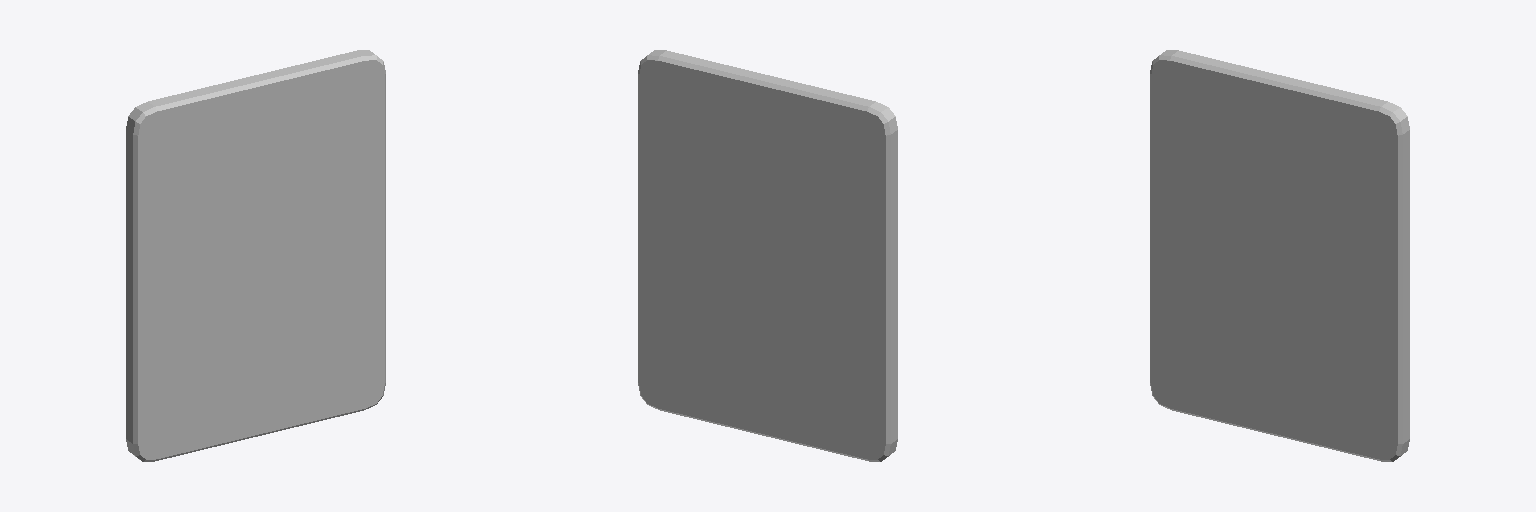
The model's file is cutting_board.obj.
The picture shows the model from 3 angles: view 1: azimuth 30°, elevation 25°; view 2: azimuth 150°, elevation 25°; view 3: azimuth 330°, elevation 25°; orthographic projection.
Visible parts, largest first — view 1: cutting_board; view 2: cutting_board; view 3: cutting_board.
Boxes of the visible parts, x1=… form: cutting_board: x1=126, y1=50, x2=385, y2=461; cutting_board: x1=638, y1=50, x2=897, y2=461; cutting_board: x1=1150, y1=50, x2=1409, y2=461.
Size of the model in its own units: 8.98 by 12.03 by 0.6779.